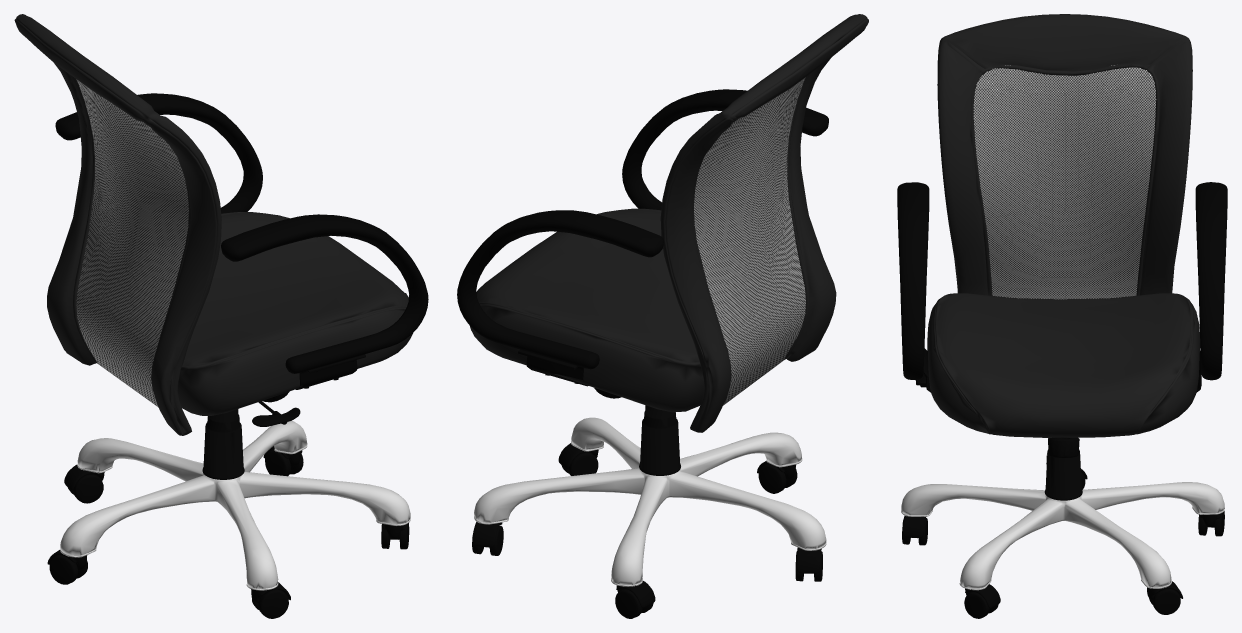
The model's file is office-chair-mesh.glb.
The picture shows the model from 3 angles, left to right: view 1: azimuth 30°, elevation 25°; view 2: azimuth 150°, elevation 25°; view 3: azimuth 270°, elevation 25°; orthographic projection. The views are drawn at different scales.
Bounding box in the file's own units: 65.19 × 102 × 63.68.
5 materials, 1 textured.
